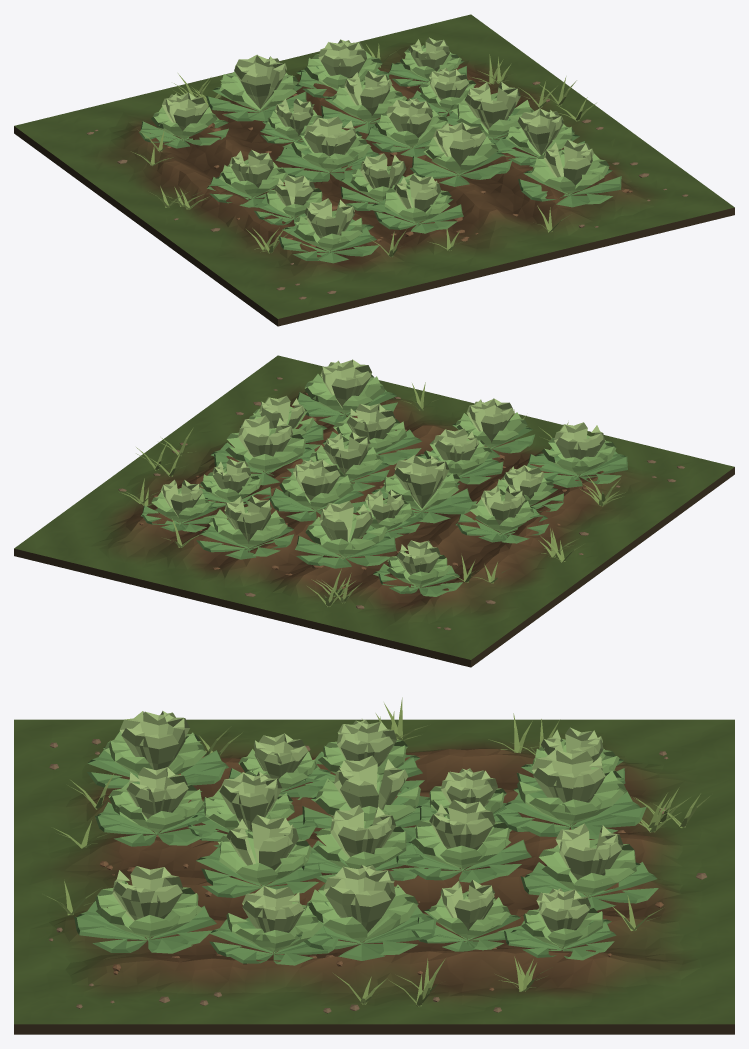
File: vegetable-field-v3.glb
3 renders of one model, top to bottom at view 1: azimuth 30°, elevation 25°; view 2: azimuth 150°, elevation 25°; view 3: azimuth 270°, elevation 25°, orthographic. The views are drawn at different scales.
Parts seen in each view (by area): view 1: Static_mesh, CabbagePlant.002_mesh, CabbagePlant_mesh, CabbagePlant.008_mesh, CabbagePlant.005_mesh, CabbagePlant.015_mesh, CabbagePlant.001_mesh, CabbagePlant.014_mesh, CabbagePlant.009_mesh, CabbageHeart.015_mesh, CabbagePlant.012_mesh, CabbagePlant.007_mesh (+25 smaller); view 2: Static_mesh, CabbagePlant.015_mesh, CabbagePlant_mesh, CabbagePlant.016_mesh, CabbagePlant.002_mesh, CabbagePlant.010_mesh, CabbagePlant.012_mesh, CabbagePlant.008_mesh, CabbagePlant.007_mesh, CabbagePlant.014_mesh, CabbageHeart.008_mesh, CabbagePlant.005_mesh (+25 smaller); view 3: Static_mesh, CabbagePlant.002_mesh, CabbagePlant.015_mesh, CabbagePlant.010_mesh, CabbagePlant.012_mesh, CabbagePlant.016_mesh, CabbagePlant.005_mesh, CabbagePlant.001_mesh, CabbagePlant.006_mesh, CabbagePlant_mesh, CabbagePlant.017_mesh, CabbageHeart.010_mesh (+25 smaller).
Boxes of the visible parts, x1,y1,x2,y2 form: Static_mesh: (14,14,734,326); CabbagePlant.002_mesh: (518,149,621,207); CabbagePlant_mesh: (278,210,379,263); CabbagePlant.008_mesh: (275,128,379,182); CabbagePlant.005_mesh: (410,136,512,186); CabbagePlant.015_mesh: (206,71,314,121); CabbagePlant.001_mesh: (372,184,463,233); CabbagePlant.014_mesh: (139,106,228,148); CabbagePlant.009_mesh: (365,109,448,157); CabbageHeart.015_mesh: (234,54,286,108); CabbagePlant.012_mesh: (321,80,407,133); CabbagePlant.007_mesh: (207,159,287,207); Static_mesh: (14,355,734,667); CabbagePlant.015_mesh: (295,514,396,568); CabbagePlant_mesh: (526,435,627,487); CabbagePlant.016_mesh: (196,506,293,559); CabbagePlant.002_mesh: (297,374,397,424); CabbagePlant.010_mesh: (211,429,314,485); CabbagePlant.012_mesh: (268,472,365,521); CabbagePlant.008_mesh: (371,472,477,523); CabbagePlant.007_mesh: (455,494,548,543); CabbagePlant.014_mesh: (373,551,462,596); CabbageHeart.008_mesh: (394,455,449,508); CabbagePlant.005_mesh: (323,415,421,464); Static_mesh: (14,719,734,1034); CabbagePlant.002_mesh: (74,881,216,953); CabbagePlant.015_mesh: (496,767,646,838); CabbagePlant.010_mesh: (296,883,436,960); CabbagePlant.012_mesh: (396,814,531,883); CabbagePlant.016_mesh: (520,838,658,910); CabbagePlant.005_mesh: (196,828,322,897); CabbagePlant.001_mesh: (95,781,220,846); CabbagePlant.006_mesh: (209,902,339,965); CabbagePlant_mesh: (87,731,228,791); CabbagePlant.017_mesh: (504,908,616,960); CabbageHeart.010_mesh: (323,865,395,932).
Bounding box in the file's own units: 3.5 × 0.4897 × 3.5.
